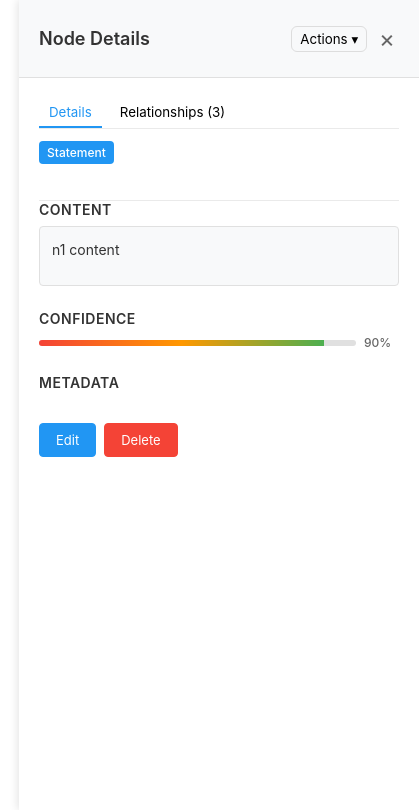
NodeDetailPanel relationships tab › counts edges in the tab label and lists direction, type, and the other node
Press the mouse on the tab "Relationships (3)" at (172, 113), box [110,98,235,128]
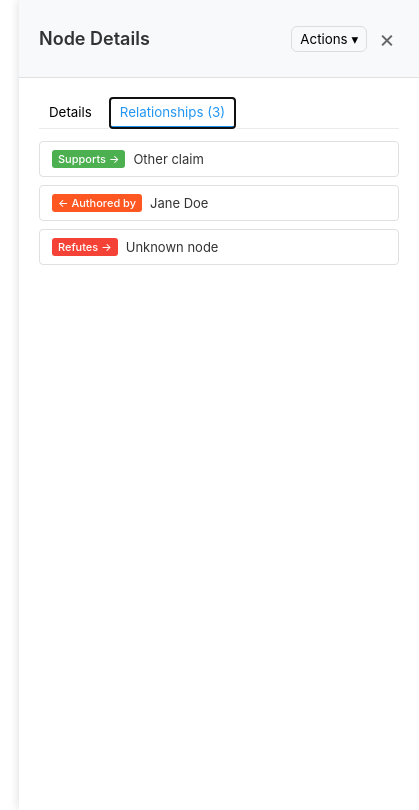
Check: the text "Supports →" is shown, box [52,150,125,168]
Check: the text "Other claim" is shown, box [133,151,204,167]
Check: the text "← Authored by" is shown, box [52,194,142,212]
